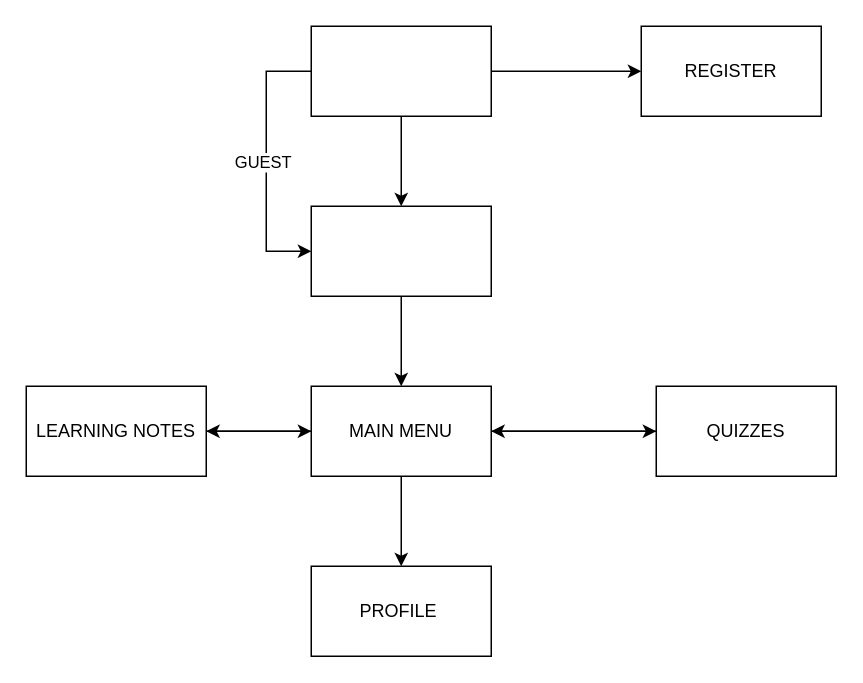
This 863x683 diagram has some shape labels left out. The centre of each missing label's shape, as x and y in pixels:
ACCOUNT: (x=400, y=70)
LOGIN: (x=400, y=250)
